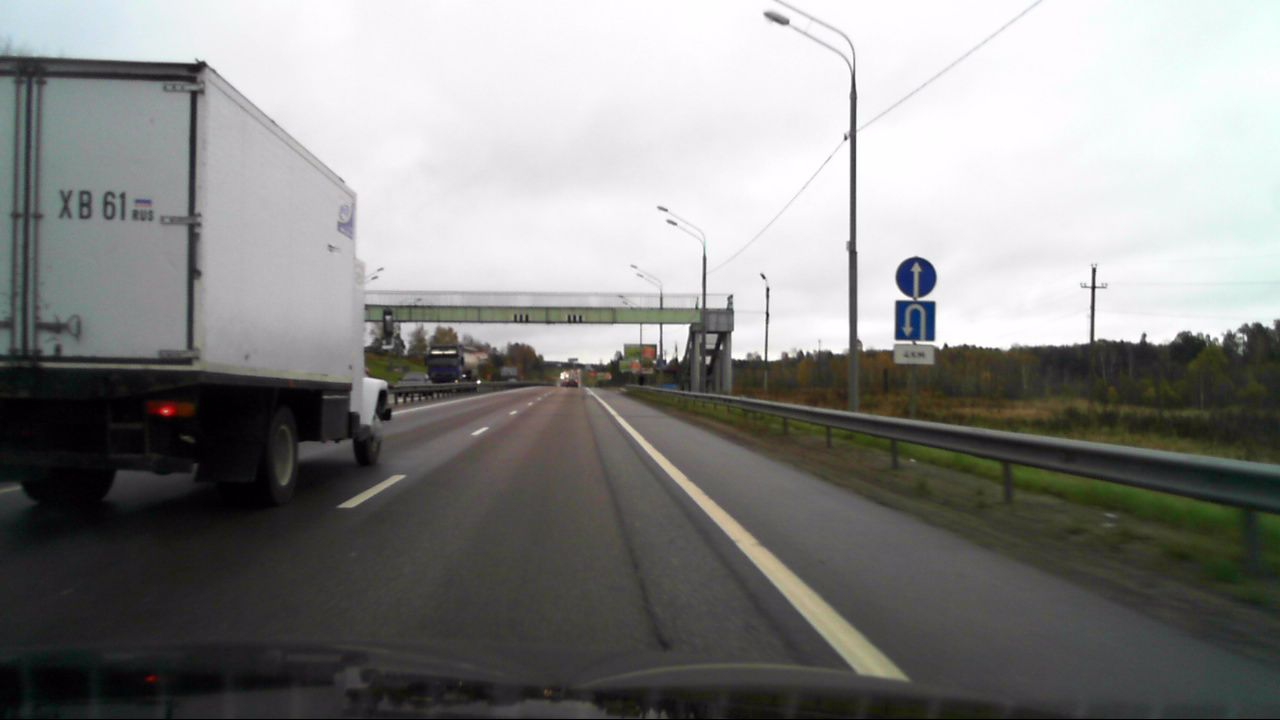U-turn: (895, 301, 935, 341)
